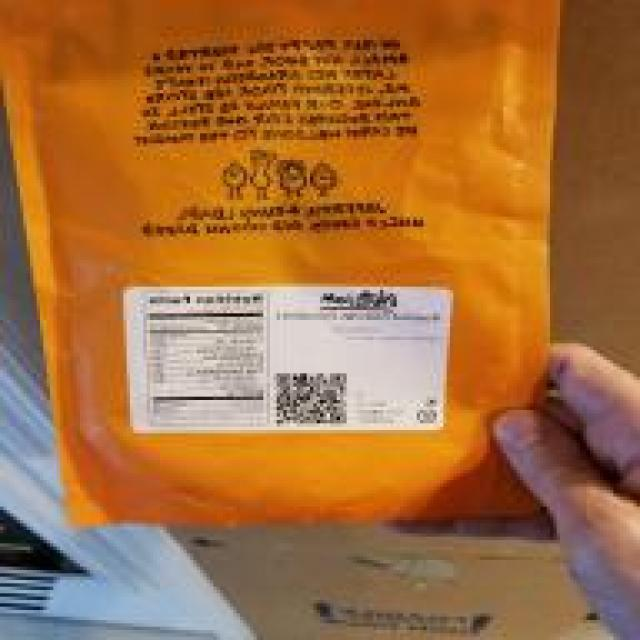qr_code: (275, 372, 347, 426)
